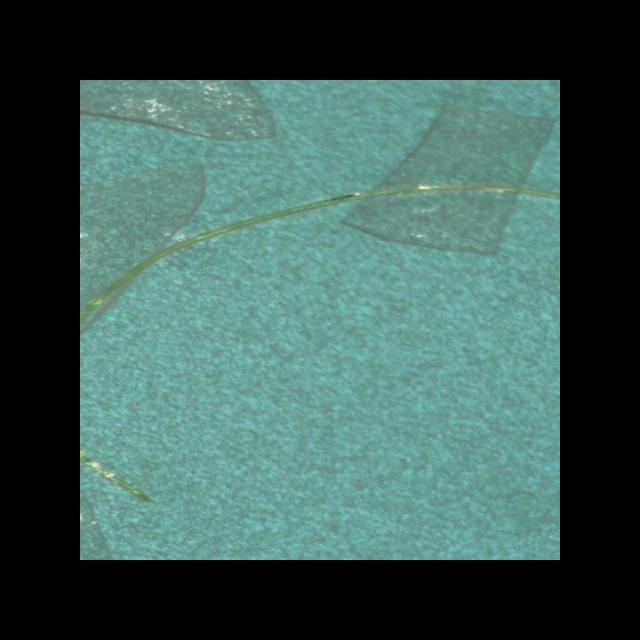Fibre: (80, 181, 560, 504)
